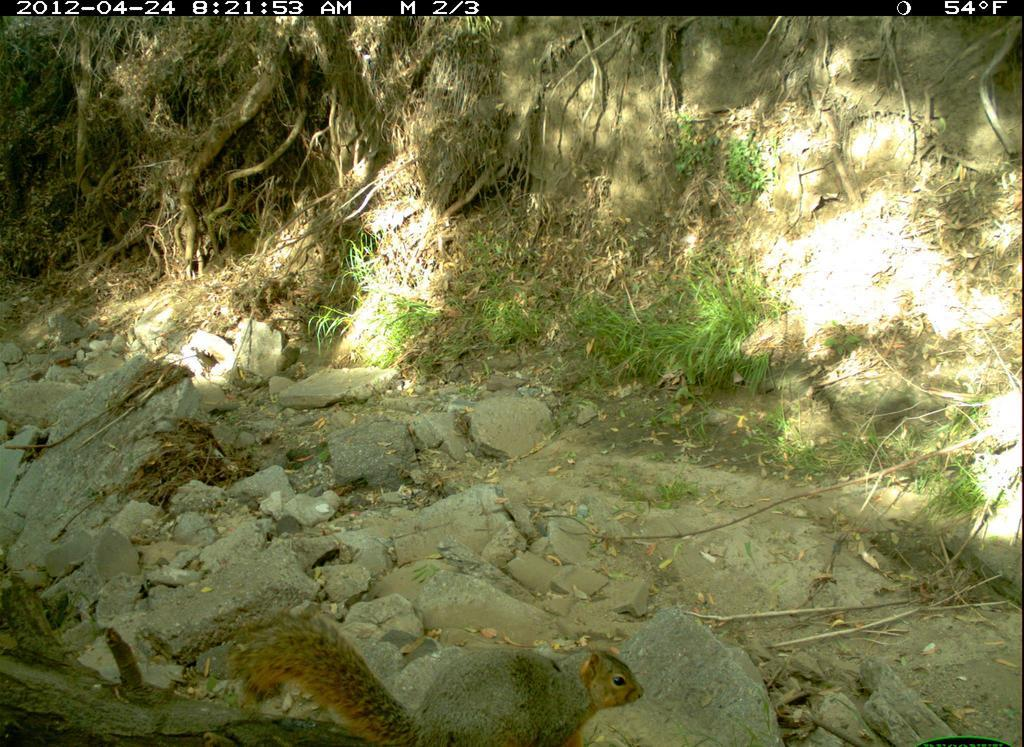squirrel: (217, 600, 652, 747)
